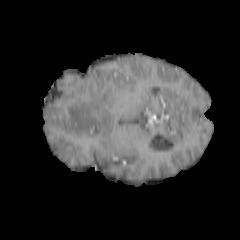glioma: (46, 82, 114, 130)
